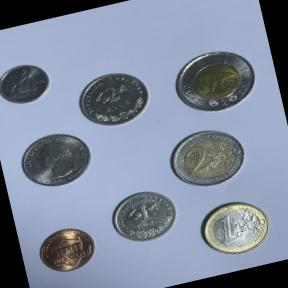coin: (164, 39, 266, 123), (160, 118, 254, 197), (11, 122, 101, 198), (69, 62, 159, 136), (191, 190, 278, 266), (31, 219, 104, 282), (0, 56, 59, 113)
